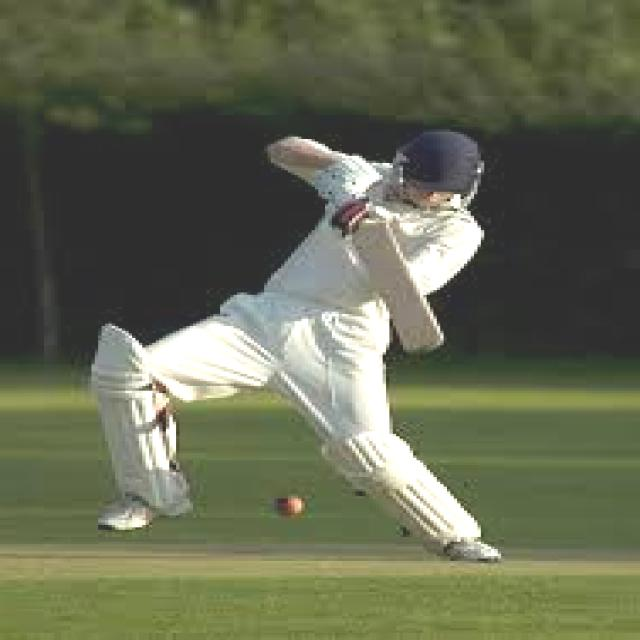toe: (393, 313, 446, 357)
